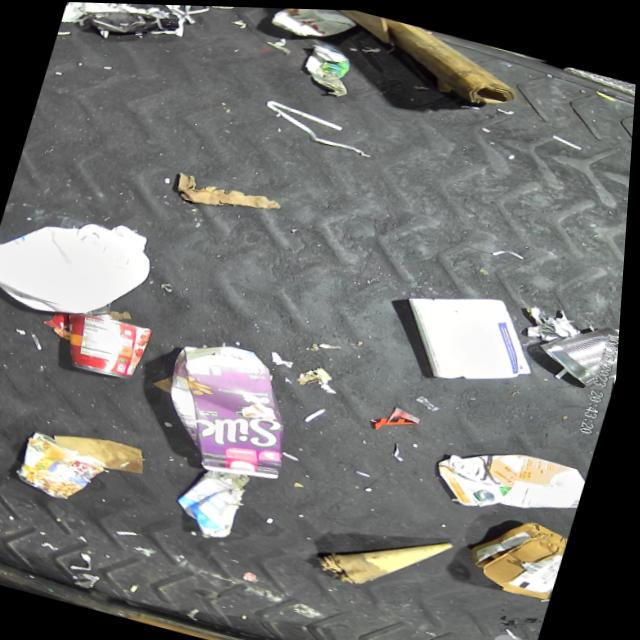can: (57, 306, 160, 384), (18, 428, 117, 507), (533, 306, 625, 389), (267, 6, 358, 46)
milk_jug: (0, 193, 165, 334)
non_white_jug: (147, 331, 317, 486), (431, 427, 597, 528)
